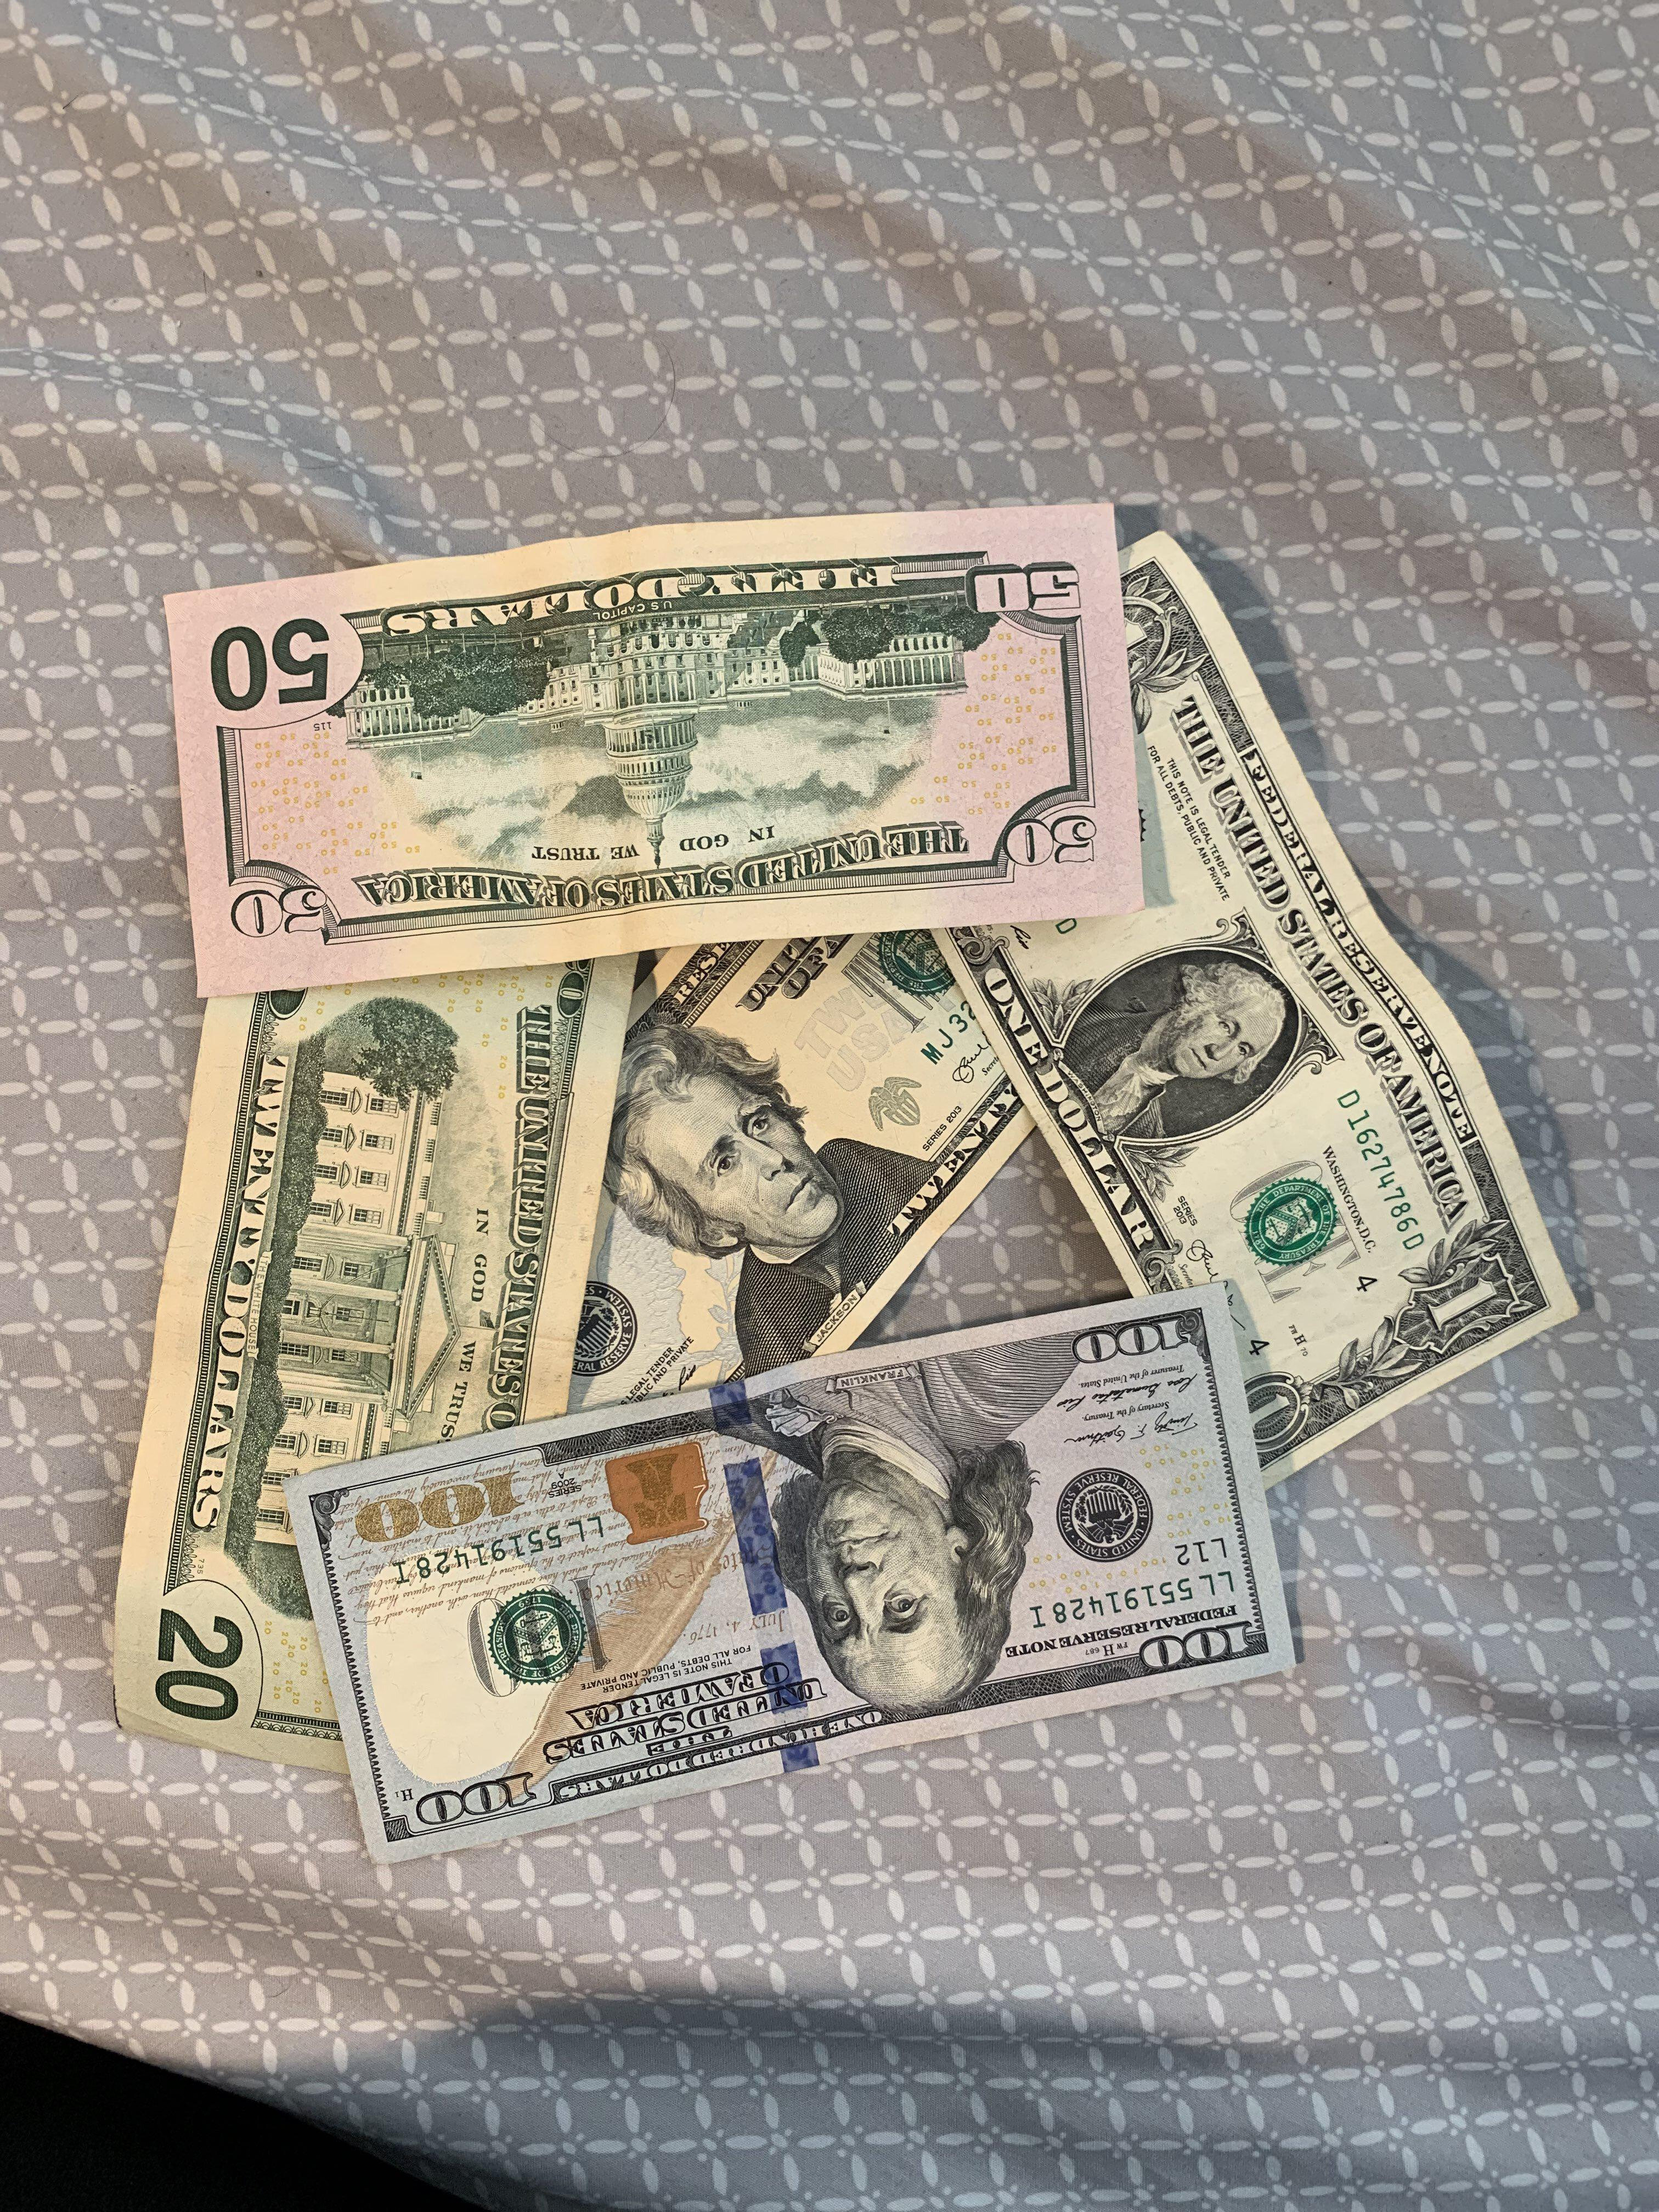FiftyBill: (105, 486, 1187, 1012)
HundredBill: (242, 1263, 1328, 1909)
OneBill: (922, 519, 1607, 1507)
TwentyBill: (68, 890, 657, 1832), (495, 888, 1073, 1442)
